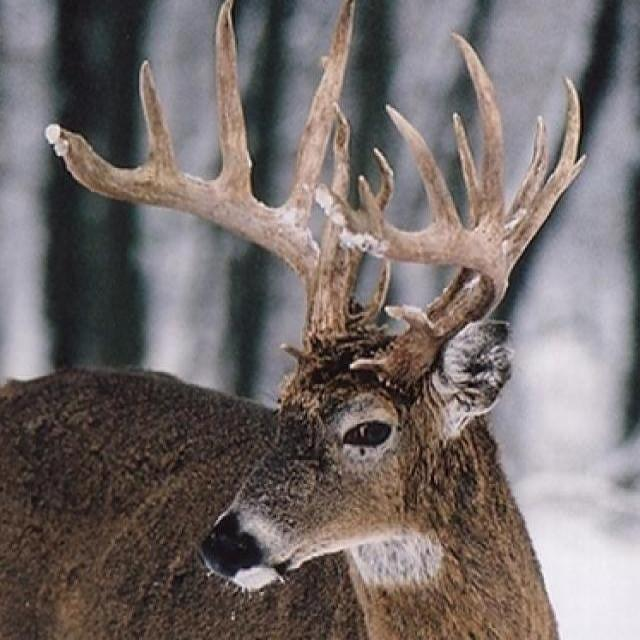deer: (12, 13, 606, 640)
